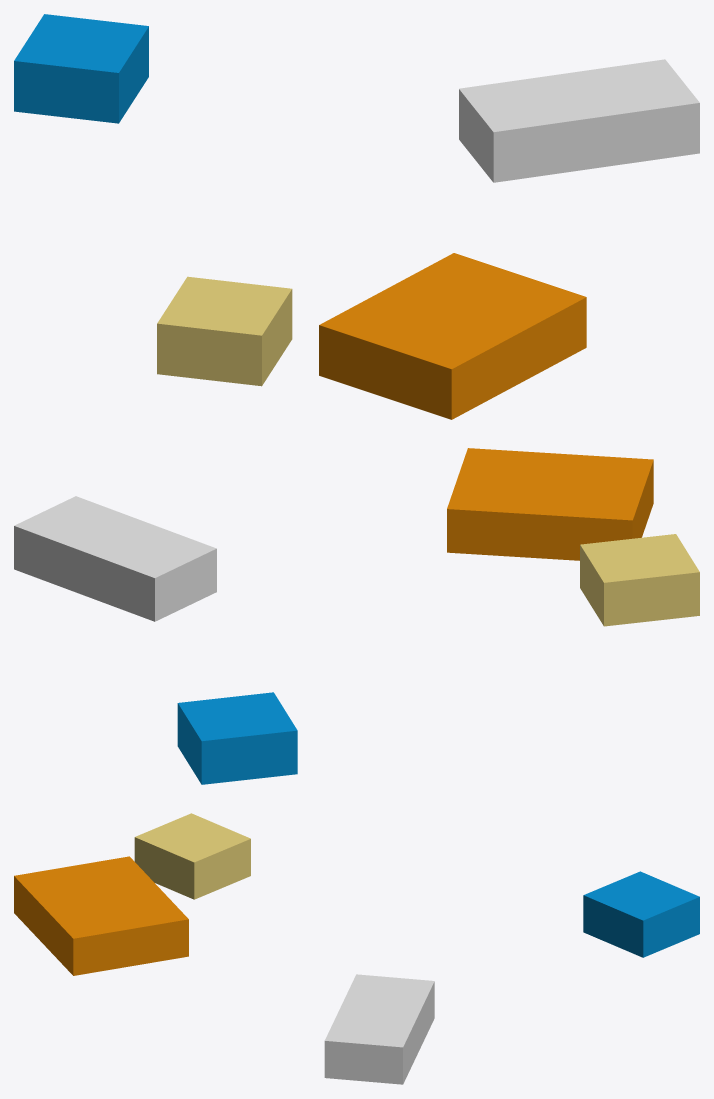
File: trash.fbx
The picture shows the model from 3 angles, top to bottom: view 1: azimuth 30°, elevation 25°; view 2: azimuth 150°, elevation 25°; view 3: azimuth 270°, elevation 25°; orthographic projection. The views are drawn at different scales.
Visible parts, largest first — view 1: trash; view 2: trash; view 3: trash.
Boxes of the visible parts, <box> form: trash: <box>14,14,699,419</box>; trash: <box>14,448,699,784</box>; trash: <box>14,813,699,1084</box>.
Size of the model in its own units: 366 by 27.12 by 453.
